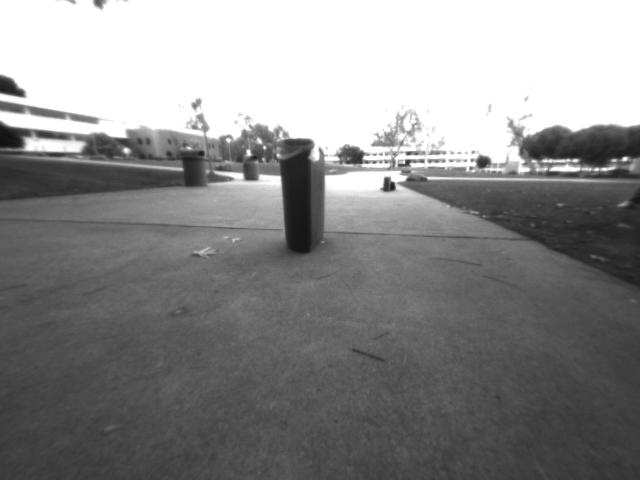trashcan_open: (277, 134, 330, 255)
